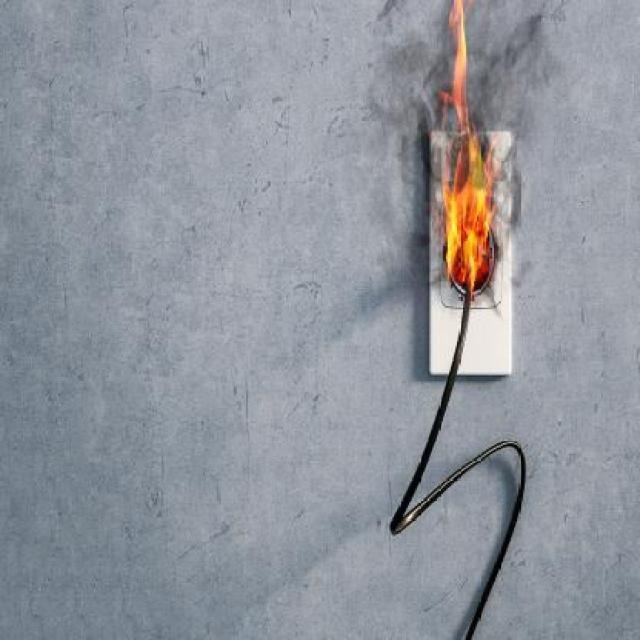Fire: (423, 0, 515, 302)
Smoke: (382, 0, 572, 277)
